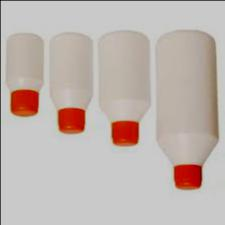Plastic: (151, 28, 218, 194)
